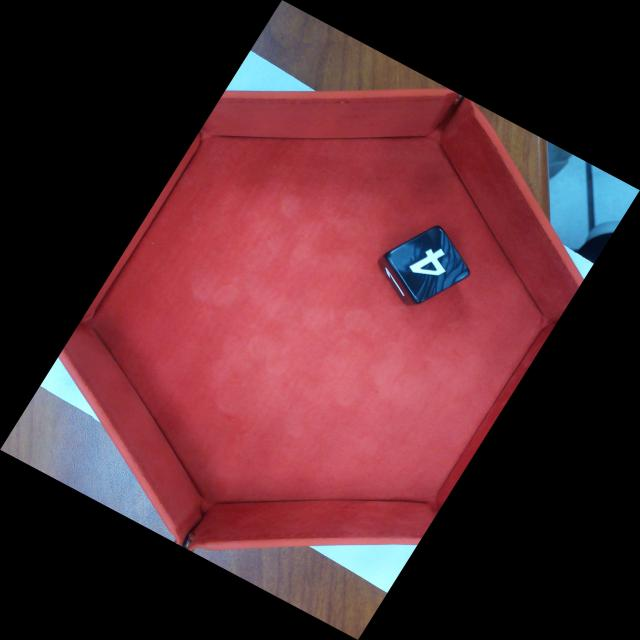dice: (383, 222, 473, 305)
